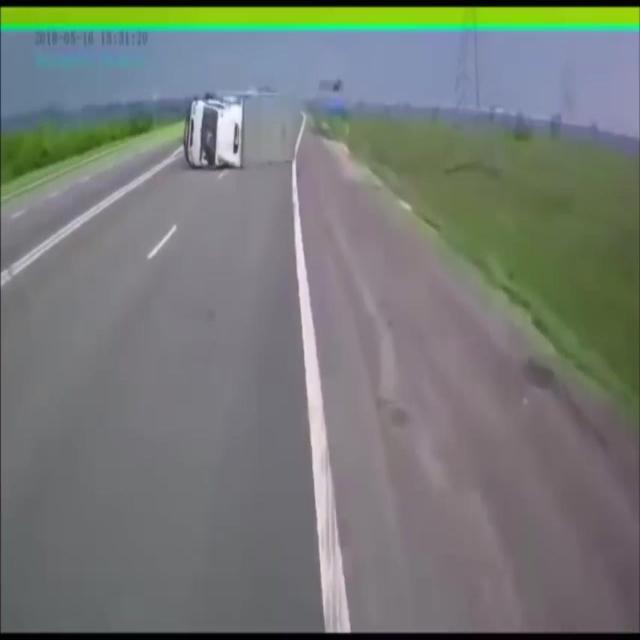severe: (183, 85, 301, 177)
